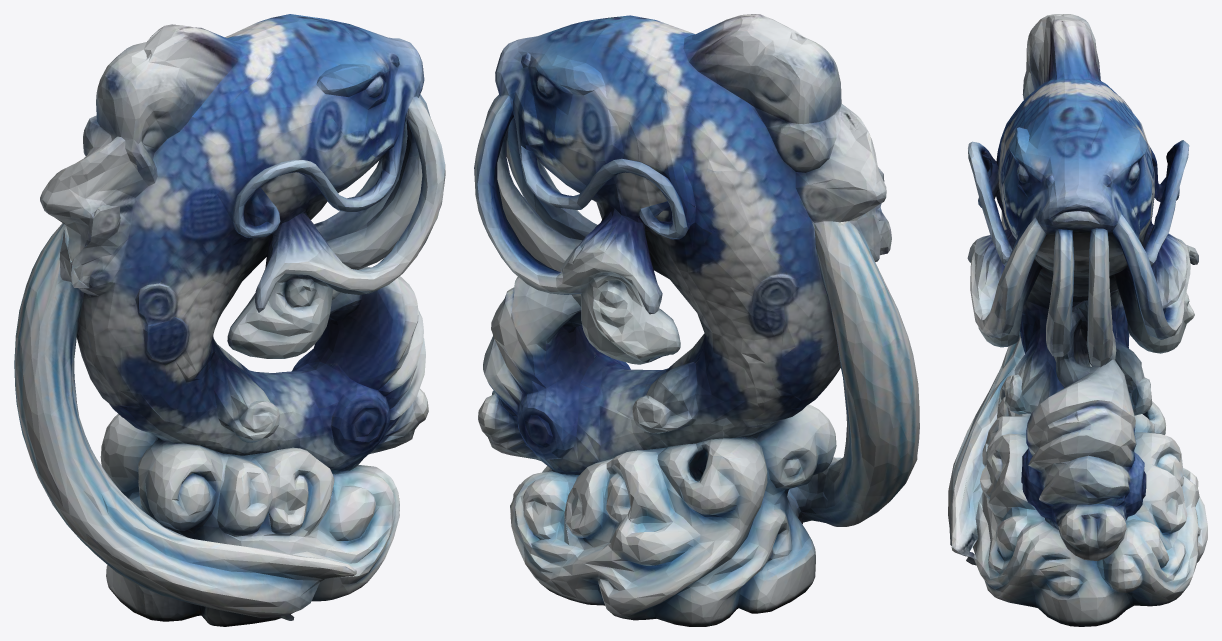
File: glimmerkoi__rapidsKoi.glb
3 renders of one model, left to right at view 1: azimuth 30°, elevation 25°; view 2: azimuth 150°, elevation 25°; view 3: azimuth 270°, elevation 25°, orthographic. The views are drawn at different scales.
Visible parts, largest first — view 1: world; view 2: world; view 3: world.
Part boxes in pixels (box(x1,y1,x2,y2)): world: box(14, 14, 445, 626); world: box(474, 14, 919, 626); world: box(948, 14, 1207, 626).
Bounding box in the file's own units: 0.7543 × 0.9992 × 0.4552.
Materials: 1 (1 with a texture image).
